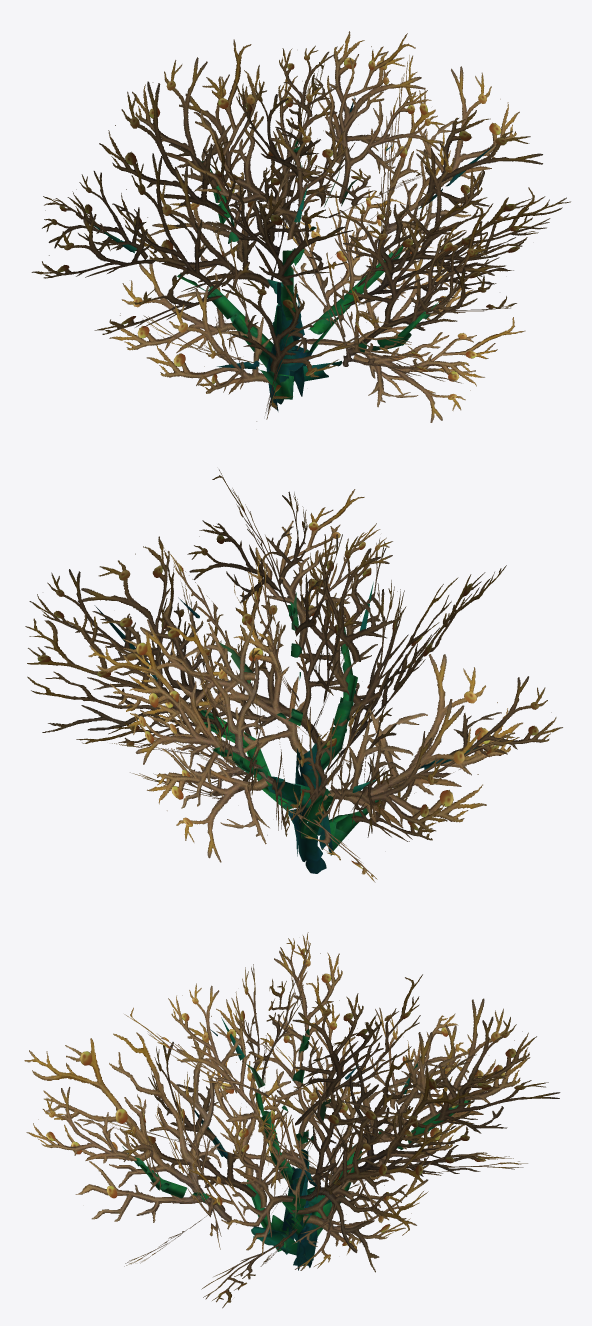
The model's file is zhiwu_06.fbx.
3 renders of one model, top to bottom at view 1: azimuth 30°, elevation 25°; view 2: azimuth 150°, elevation 25°; view 3: azimuth 270°, elevation 25°, orthographic. The views are drawn at different scales.
Parts seen in each view (by area): view 1: zhiwu_06; view 2: zhiwu_06; view 3: zhiwu_06.
Part boxes in pixels (x1=…): zhiwu_06: x1=31, y1=31, x2=570, y2=422; zhiwu_06: x1=25, y1=469, x2=562, y2=882; zhiwu_06: x1=24, y1=932, x2=560, y2=1308.
Bounding box in the file's own units: 569 × 414 × 609.
